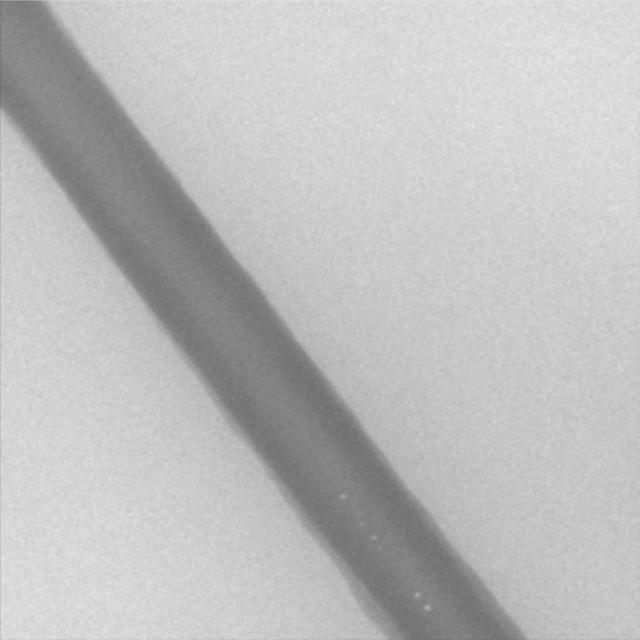air hole: (338, 490, 349, 502), (422, 603, 432, 614), (369, 532, 380, 542), (411, 590, 421, 600)
